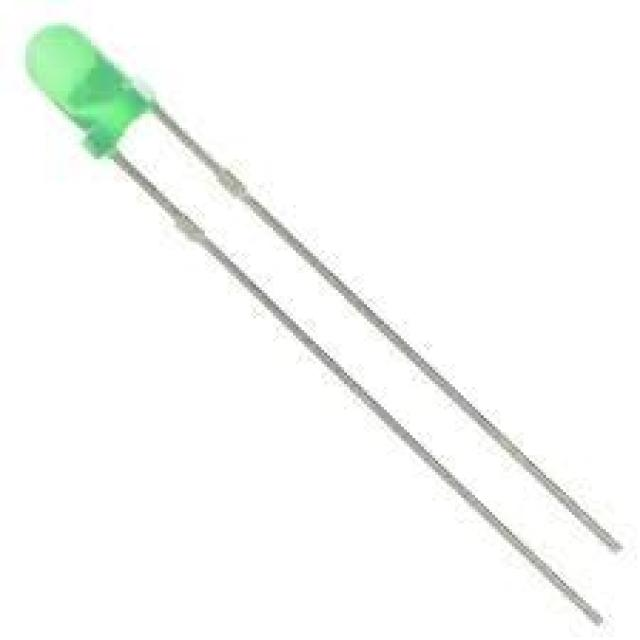Led: (31, 25, 615, 548)
